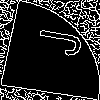J: (25, 24, 85, 58)
